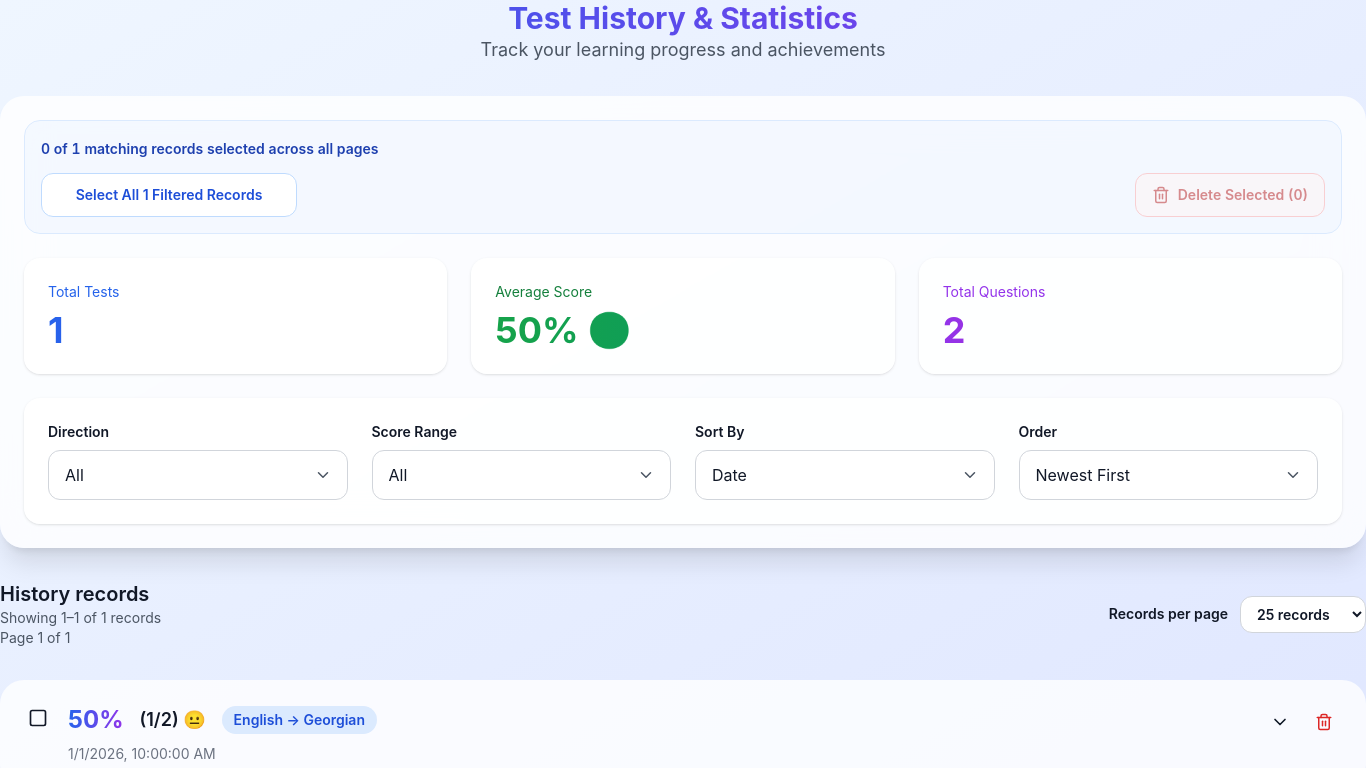
Scenario: Description presentation boundaries › shows the original saved description in expanded History
The image size is (1366, 768).
Click the button named "Show mistakes" at (1280, 722), box [1262,704,1298,740]
(page scrolled)
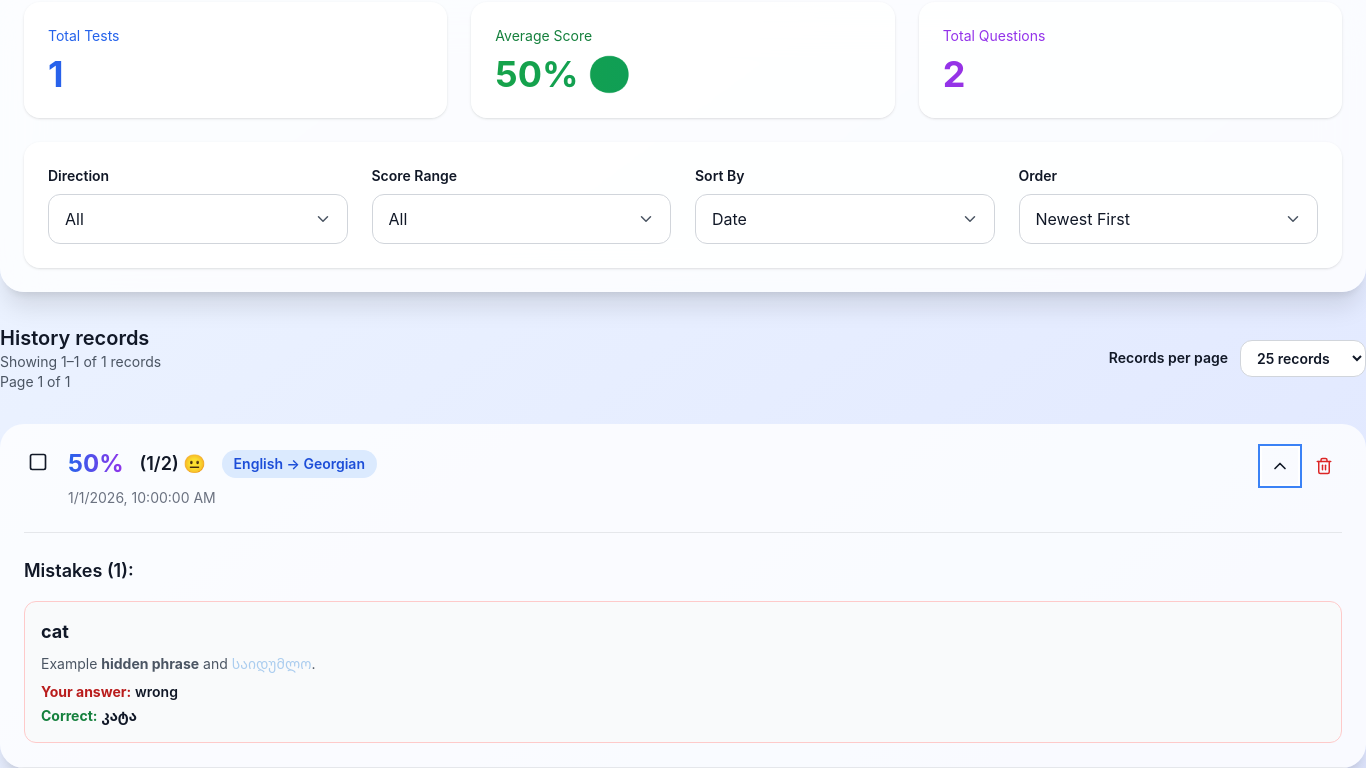
Now the text "hidden phrase" is shown, box [101,655,199,672]
Now the text "საიდუმლო" is shown, box [232,655,312,672]
